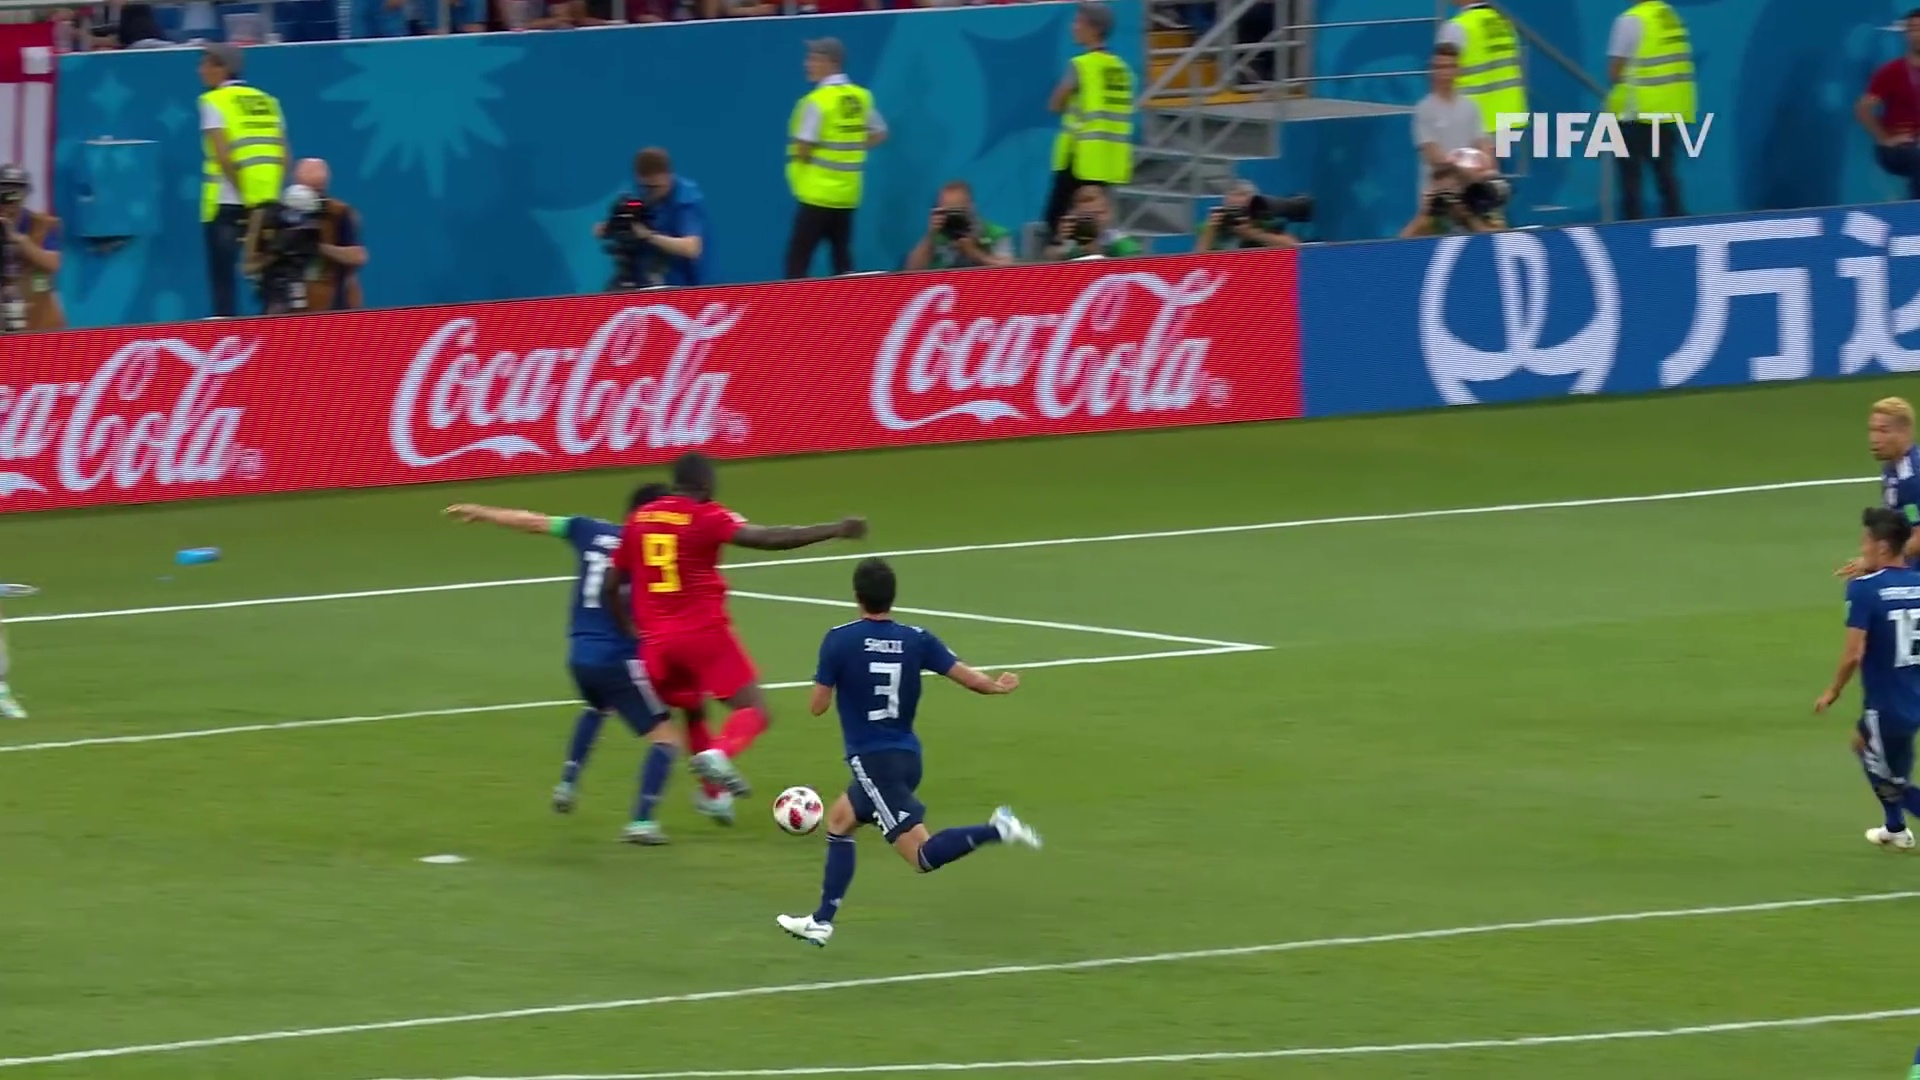ball: (777, 792, 818, 831)
person: (775, 553, 1042, 953), (630, 451, 865, 825), (459, 482, 689, 845), (1836, 502, 1920, 835), (1865, 392, 1920, 510)
